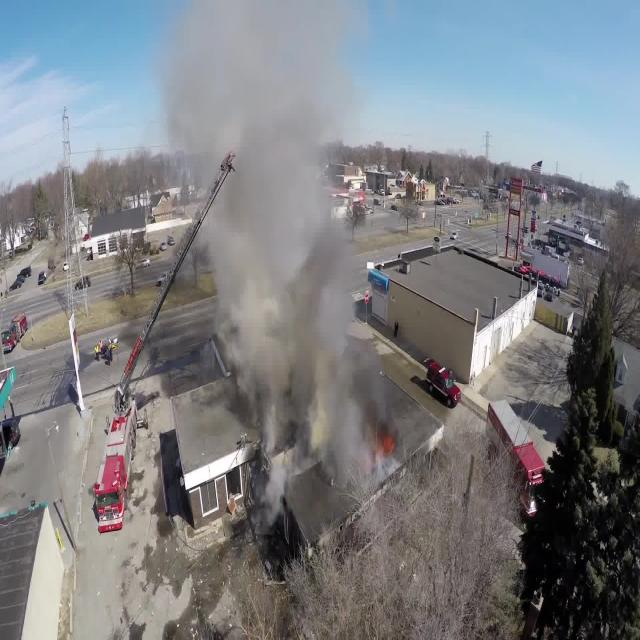Fire: (377, 420, 399, 462)
Smoke: (177, 6, 394, 471)
